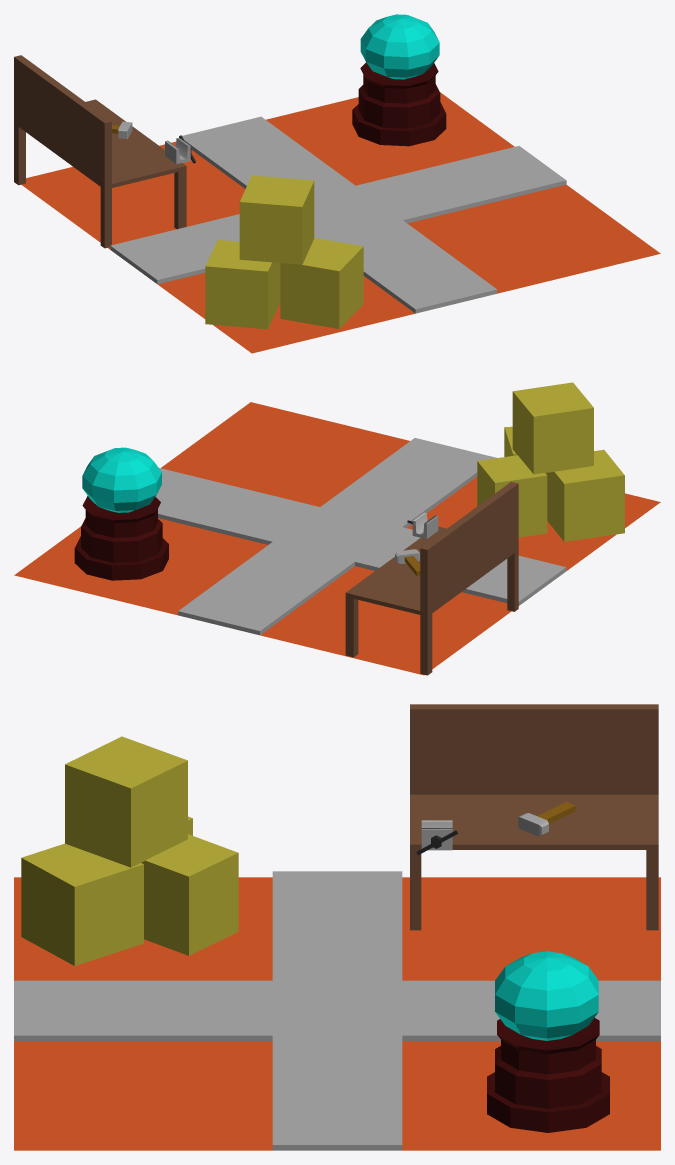
Rendered from Room 4 -Engineering Draft - New.fbx.
3 views of the same model, one above another, from view 1: azimuth 30°, elevation 25°; view 2: azimuth 150°, elevation 25°; view 3: azimuth 270°, elevation 25° (orthographic). The views are drawn at different scales.
Visible parts, largest first — view 1: pPlane1, pCube1, pCube8, pCube4, pCylinder2, pCube5, pSphere1, pCube2; view 2: pPlane1, pCube1, pCube8, pCylinder2, pCube5, pSphere1, pCube7, pCube2, Hammer; view 3: pPlane1, pCube1, pCube8, pCube4, pCylinder2, pCube7, pSphere1, Hammer, pCube2.
Boxes of the visible parts, bbox=[...] form: pPlane1: bbox=[21, 92, 660, 353]; pCube1: bbox=[14, 55, 186, 248]; pCube8: bbox=[239, 175, 314, 264]; pCube4: bbox=[280, 238, 363, 328]; pCylinder2: bbox=[352, 62, 446, 146]; pCube5: bbox=[205, 240, 280, 329]; pSphere1: bbox=[360, 14, 439, 79]; pCube2: bbox=[165, 138, 190, 164]; pPlane1: bbox=[14, 402, 660, 675]; pCube1: bbox=[345, 481, 518, 675]; pCube8: bbox=[512, 382, 593, 474]; pCylinder2: bbox=[74, 496, 168, 580]; pCube5: bbox=[545, 449, 624, 541]; pSphere1: bbox=[82, 447, 161, 512]; pCube7: bbox=[477, 455, 547, 537]; pCube2: bbox=[412, 512, 438, 538]; Hammer: bbox=[395, 549, 420, 575]; pPlane1: bbox=[14, 871, 660, 1150]; pCube1: bbox=[410, 704, 658, 930]; pCube8: bbox=[65, 736, 187, 867]; pCube4: bbox=[21, 843, 143, 965]; pCylinder2: bbox=[487, 1017, 609, 1132]; pCube7: bbox=[141, 834, 238, 955]; pSphere1: bbox=[495, 951, 598, 1040]; Hammer: bbox=[518, 802, 575, 836]; pCube2: bbox=[421, 820, 452, 850].
Bounding box in the file's own units: 10.13 × 2.92 × 10.
